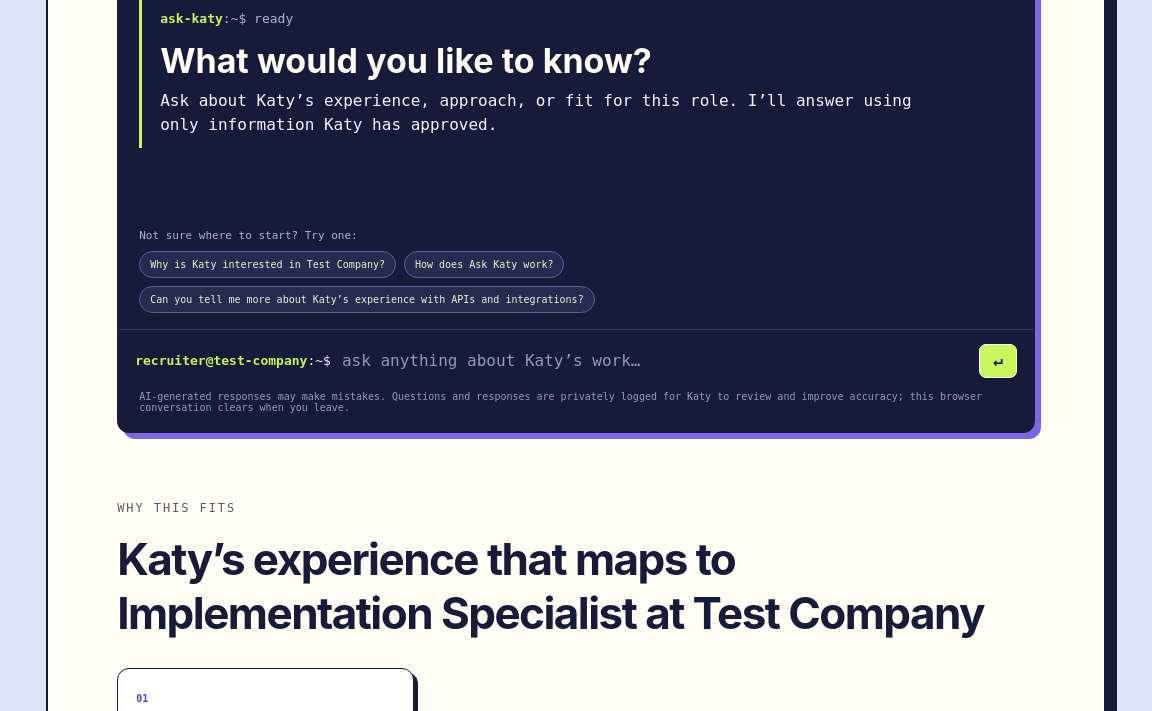
it: shows that Ask Katy is thinking during a slow follow-up
Later steps or results of the test are not shown.
(page scrolled)
In the field with placeholder "ask anything about Katy’s work…": {"x": 655, "y": 361} top-left (340, 350), bottom-right (970, 372), type "What API work has Katy done?"
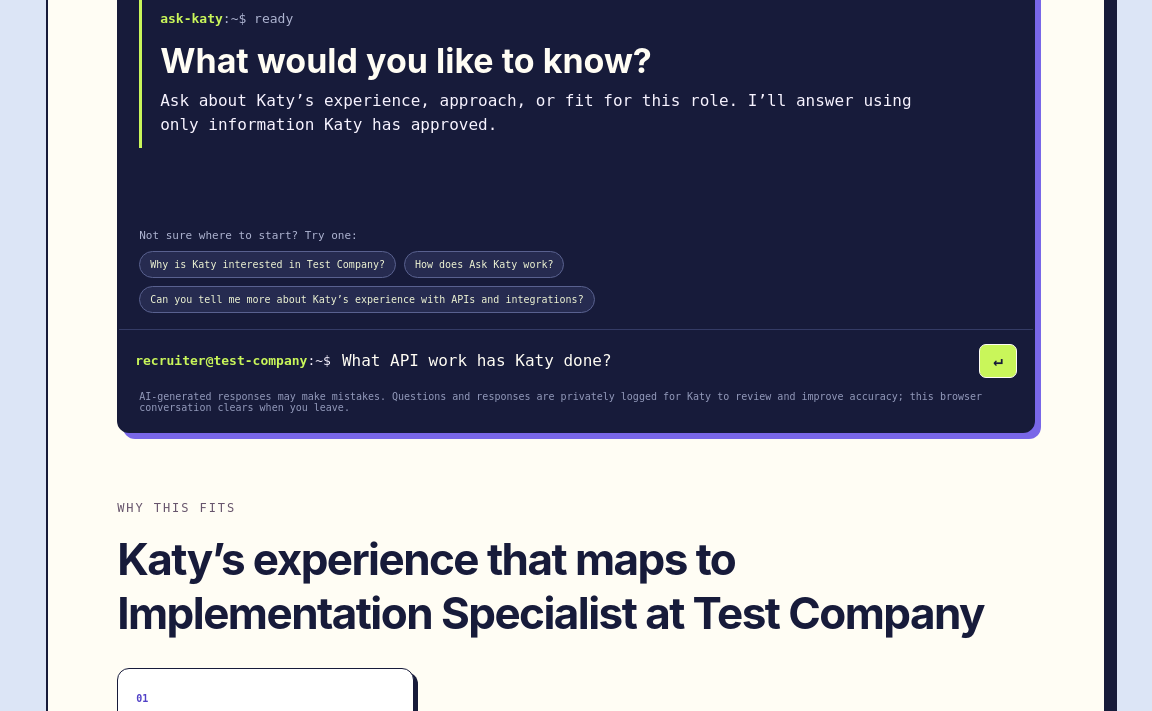
Click the button named "Ask question": {"x": 998, "y": 361} top-left (979, 344), bottom-right (1017, 378)
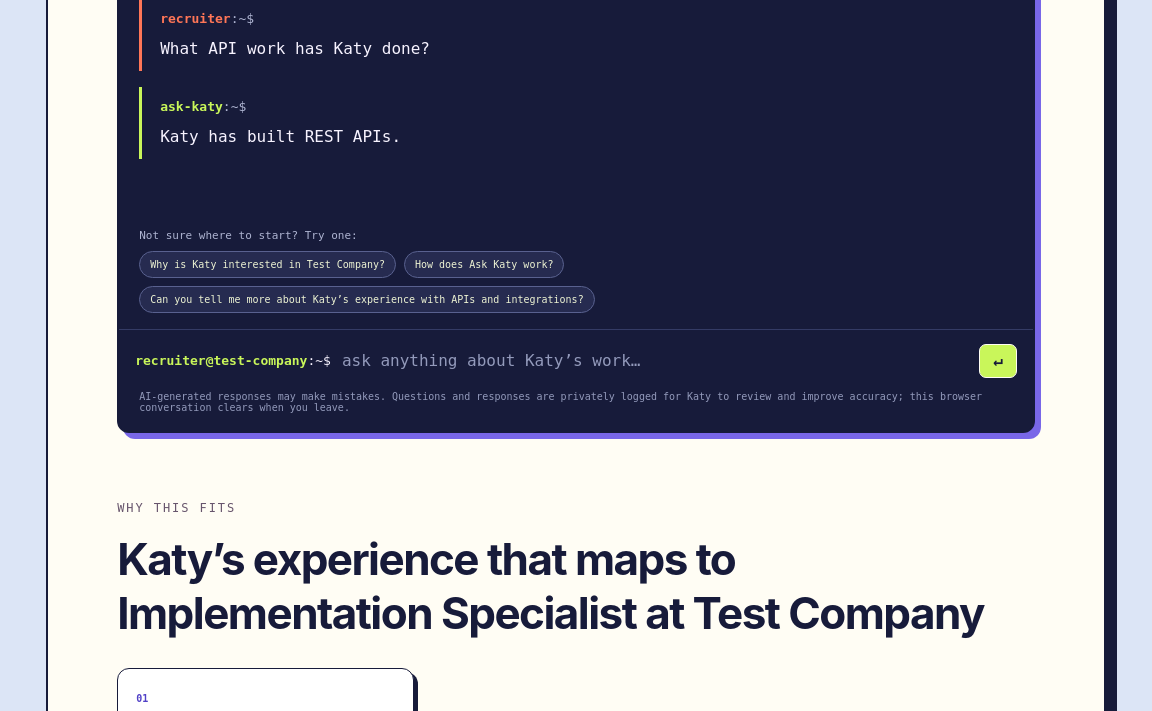
Expected: the text "Katy has built REST APIs." is shown, top-left (160, 127), bottom-right (401, 146)
In the field with placeholder "ask anything about Katy’s work…": {"x": 655, "y": 361} top-left (340, 350), bottom-right (970, 372), type "How did that help customers?"
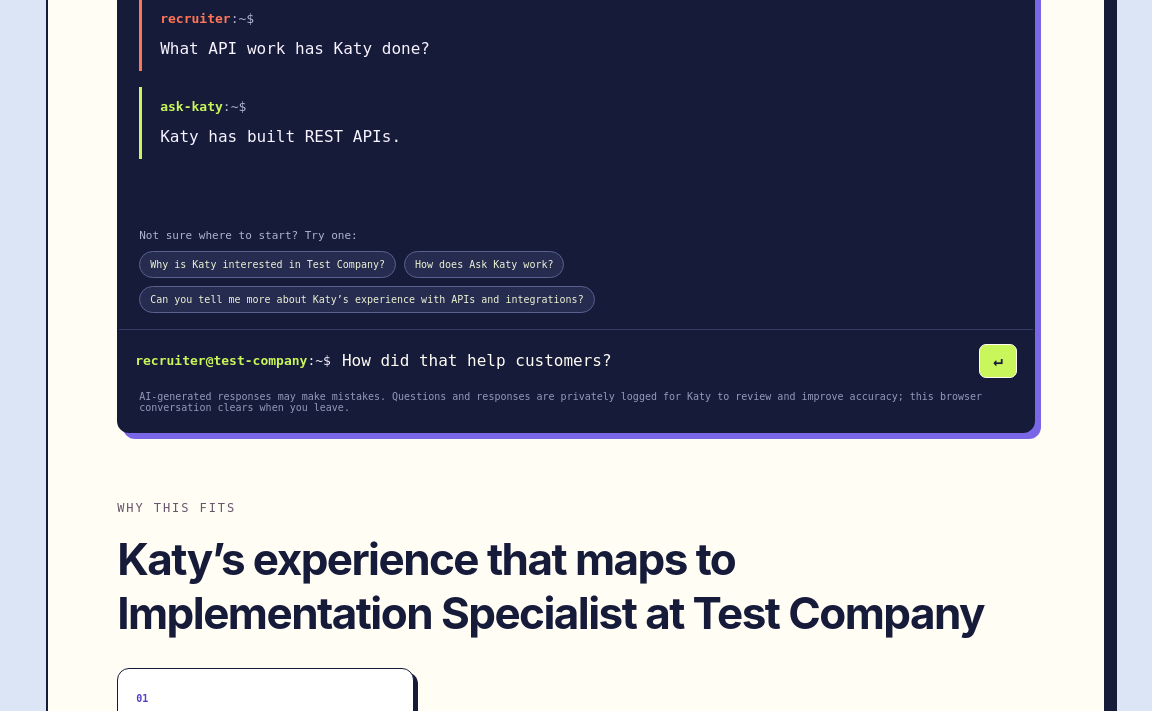
Click the button named "Ask question": {"x": 998, "y": 361} top-left (979, 344), bottom-right (1017, 378)
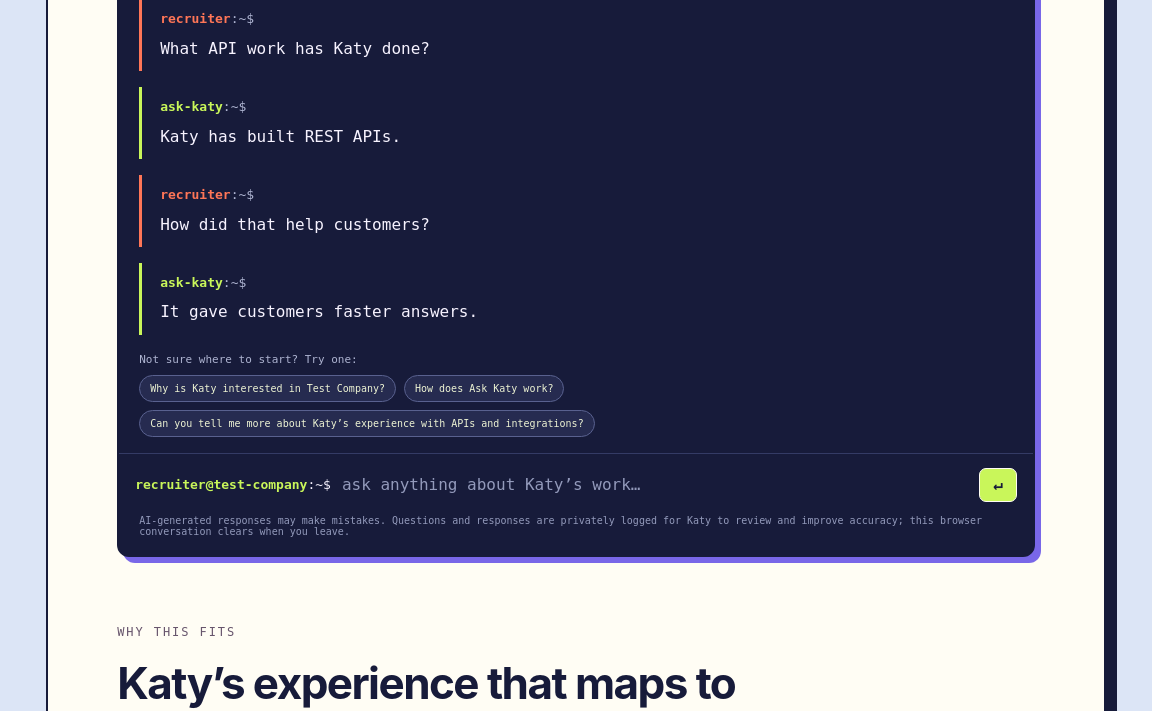
Expected: the button named "Ask question" is enabled, top-left (979, 468), bottom-right (1017, 502)
Expected: the text "It gave customers faster answers." is shown, top-left (160, 302), bottom-right (478, 321)
